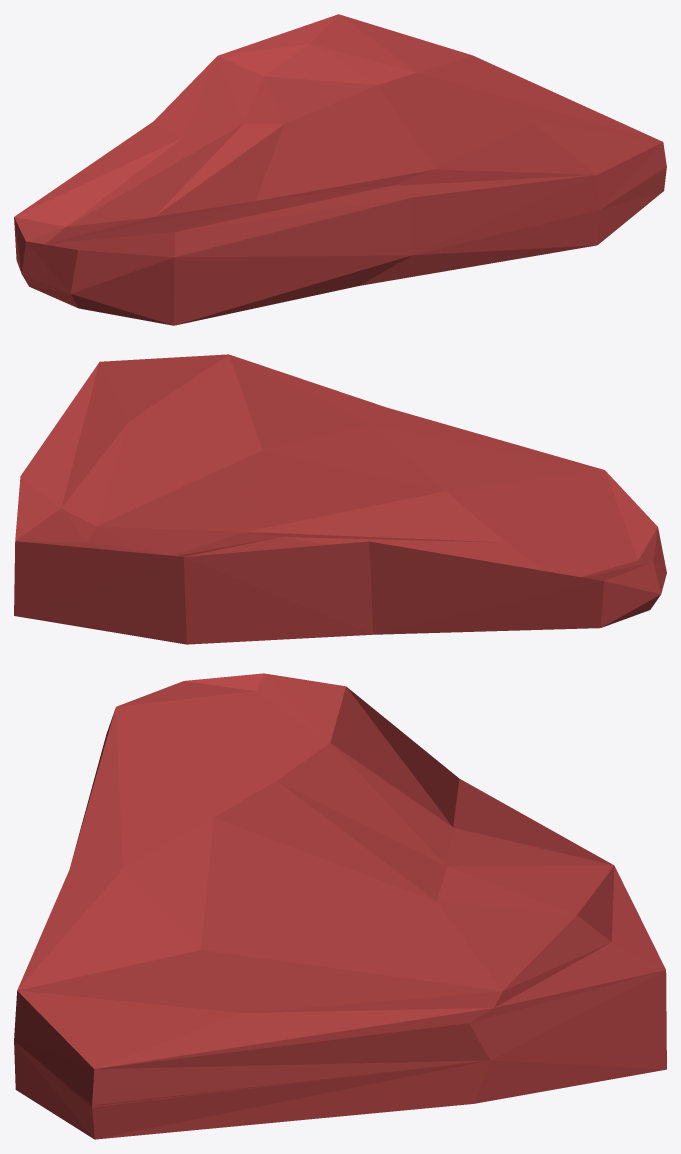
Rendered from SFI_Meat_Cooked_001.fbx.
3 renders of one model, top to bottom at view 1: azimuth 30°, elevation 25°; view 2: azimuth 150°, elevation 25°; view 3: azimuth 270°, elevation 25°, orthographic. The views are drawn at different scales.
Visible parts, largest first — view 1: SFI_Meat_Cooked_001; view 2: SFI_Meat_Cooked_001; view 3: SFI_Meat_Cooked_001.
Part boxes in pixels (x1=…): SFI_Meat_Cooked_001: x1=14, y1=14, x2=666, y2=325; SFI_Meat_Cooked_001: x1=14, y1=354, x2=666, y2=644; SFI_Meat_Cooked_001: x1=14, y1=673, x2=666, y2=1139.
Bounding box in the file's own units: 71.64 × 10.78 × 48.79.
